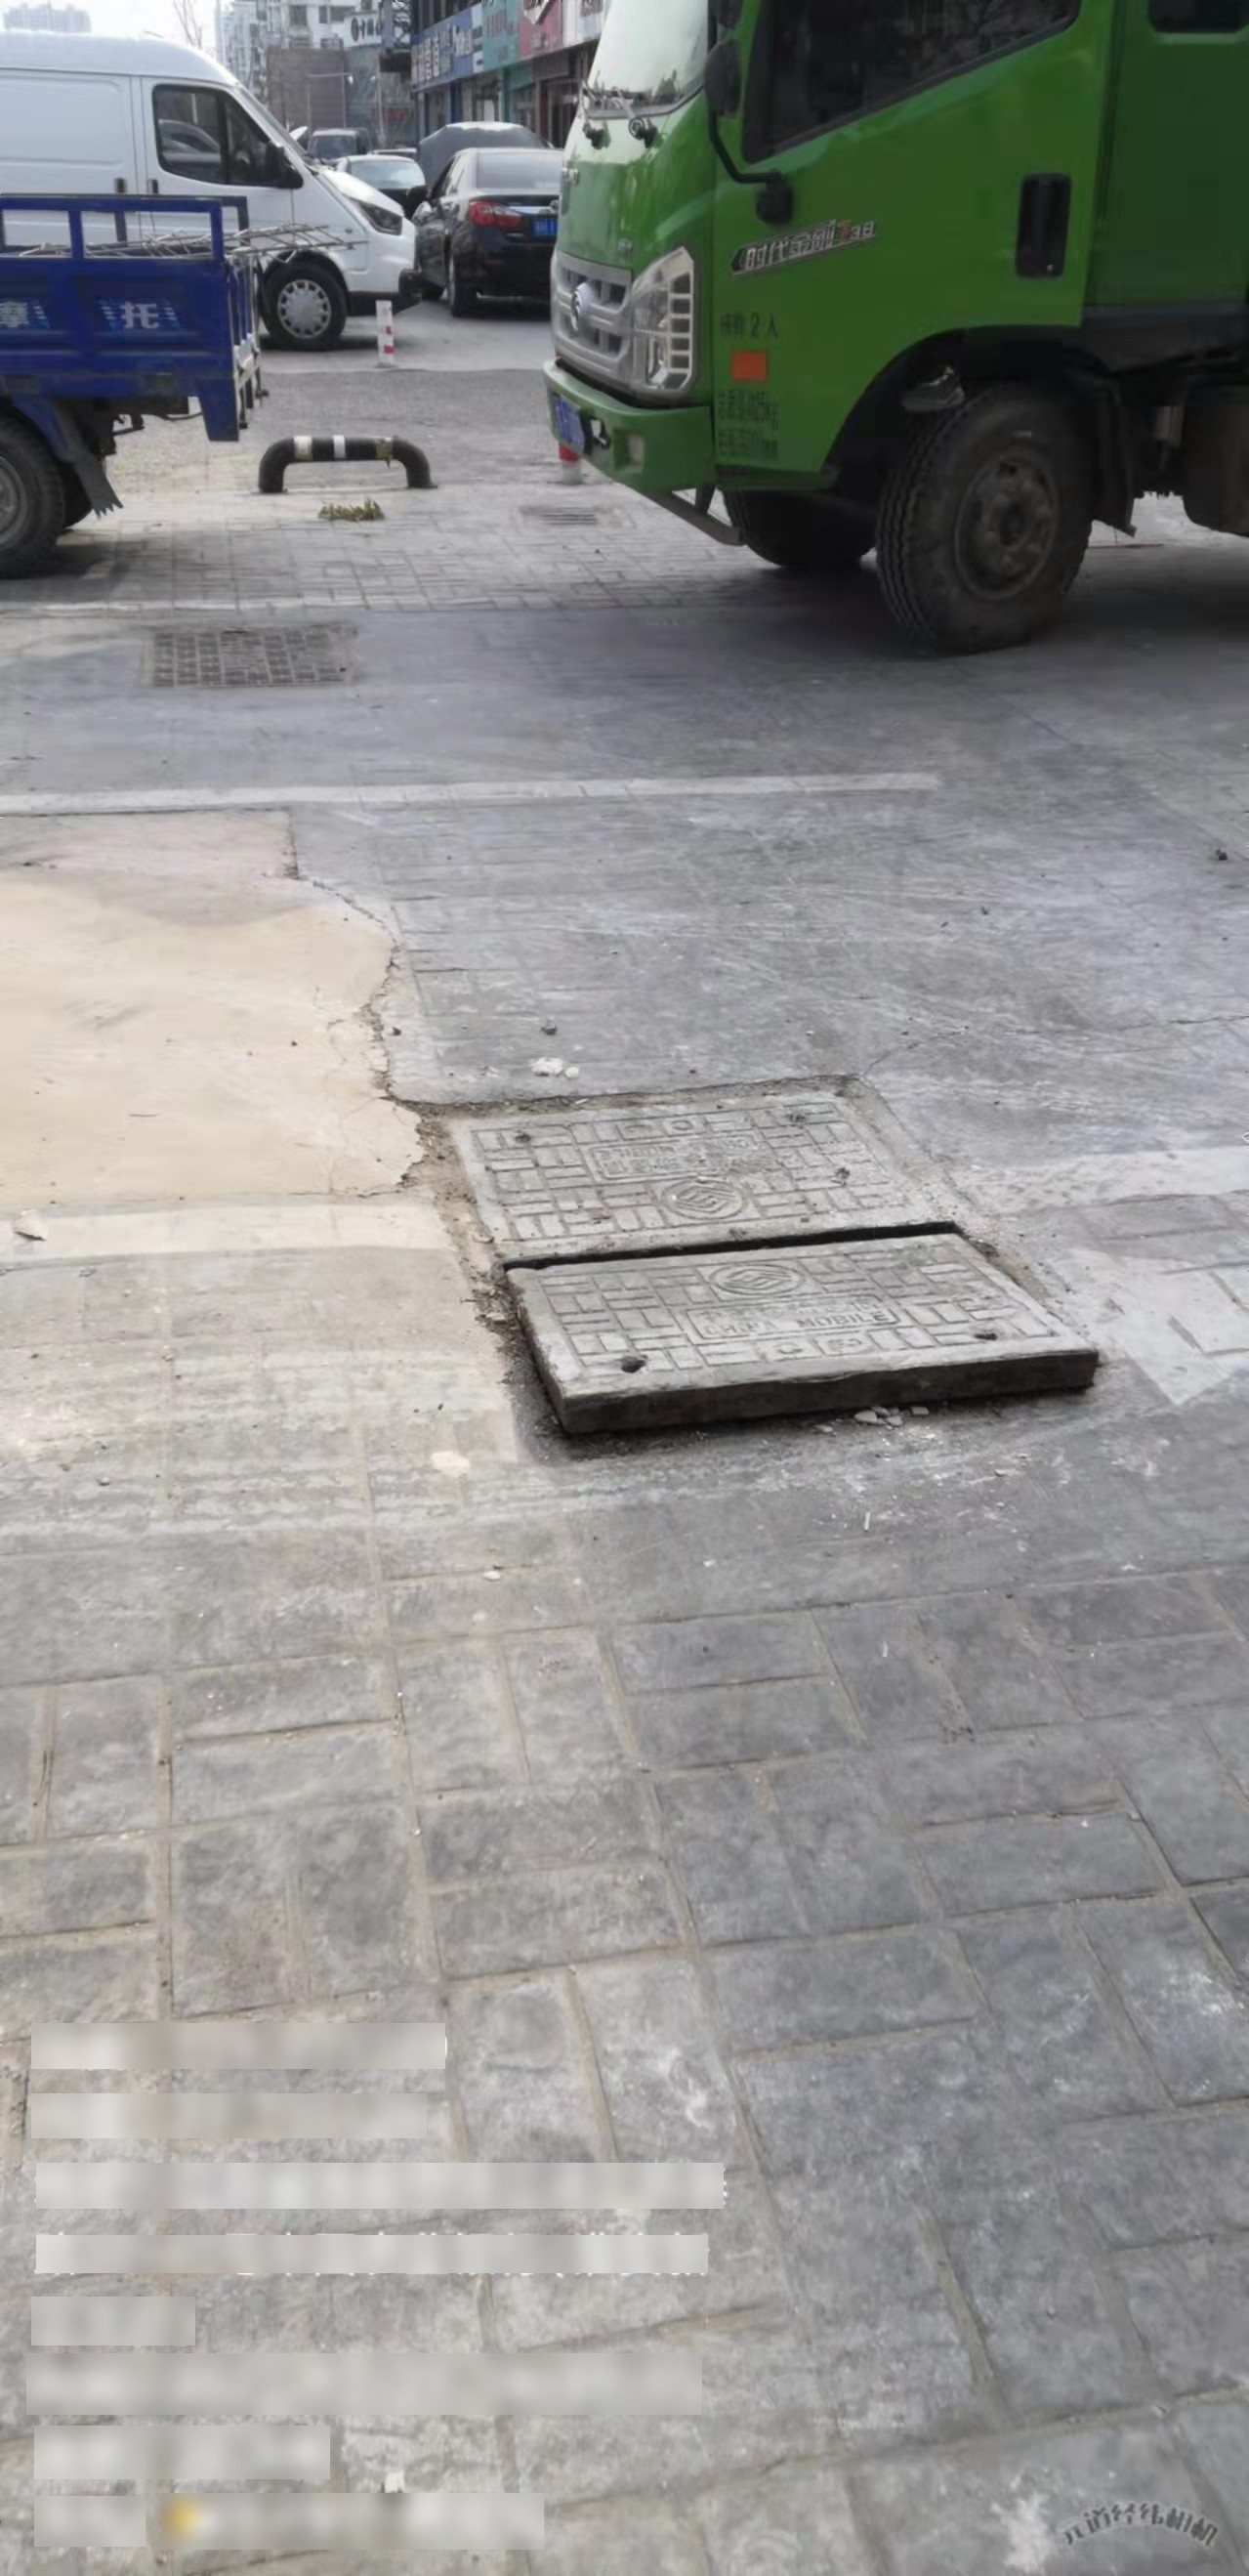uncovered: (430, 1078, 1103, 1465)
